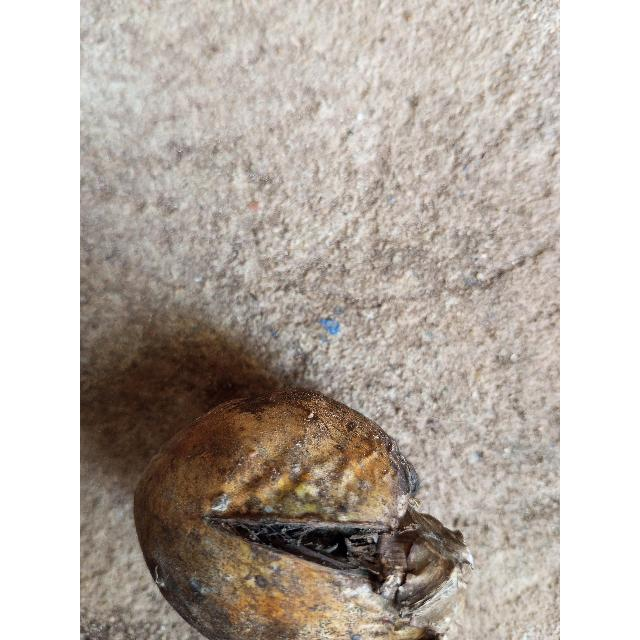damaged: (134, 388, 473, 640)
